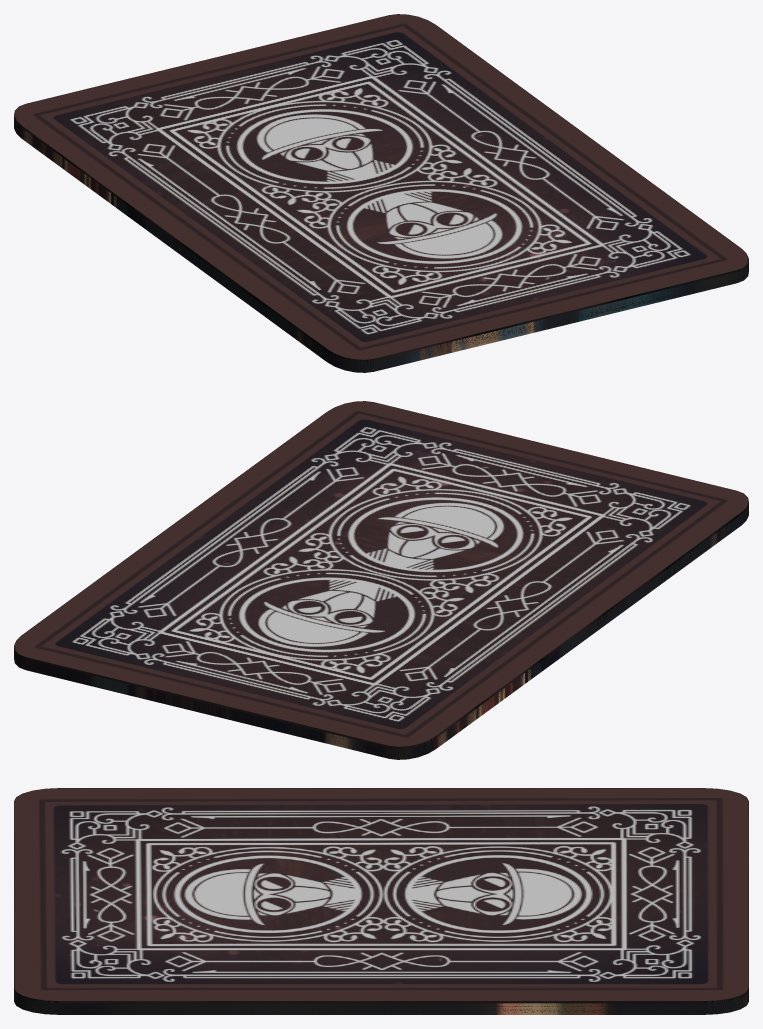
The model's file is the_fool_tarot.glb.
The picture shows the model from 3 angles, top to bottom: view 1: azimuth 30°, elevation 25°; view 2: azimuth 150°, elevation 25°; view 3: azimuth 270°, elevation 25°; orthographic projection. The views are drawn at different scales.
Visible parts, largest first — view 1: Plane.002, Plane.001; view 2: Plane.002, Plane.001; view 3: Plane.002, Plane.001.
Part boxes in pixels (x1,y1,x2,y2): Plane.002: (14, 14, 748, 370); Plane.001: (14, 118, 748, 372); Plane.002: (14, 401, 748, 756); Plane.001: (14, 505, 748, 759); Plane.002: (14, 788, 748, 1012); Plane.001: (14, 990, 748, 1014).
Bounding box in the file's own units: 2.28 × 0.0684 × 3.32.
Materials: 2 (2 with a texture image).
